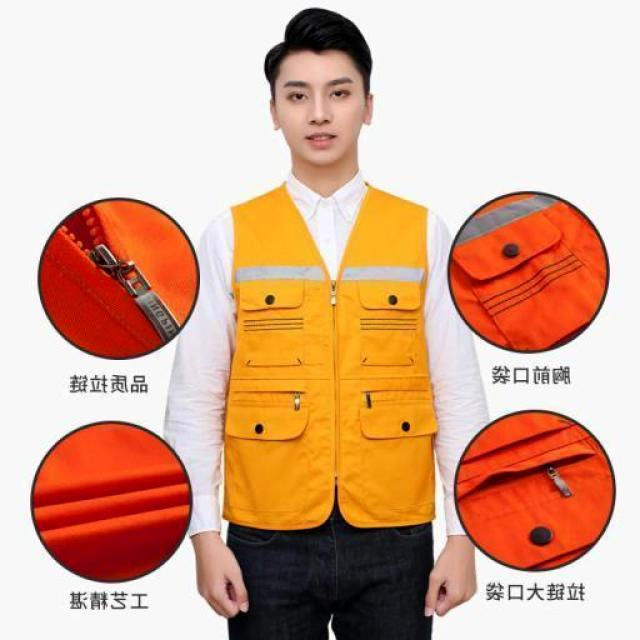no_head_wear: (264, 8, 371, 99)
person: (165, 8, 486, 639)
